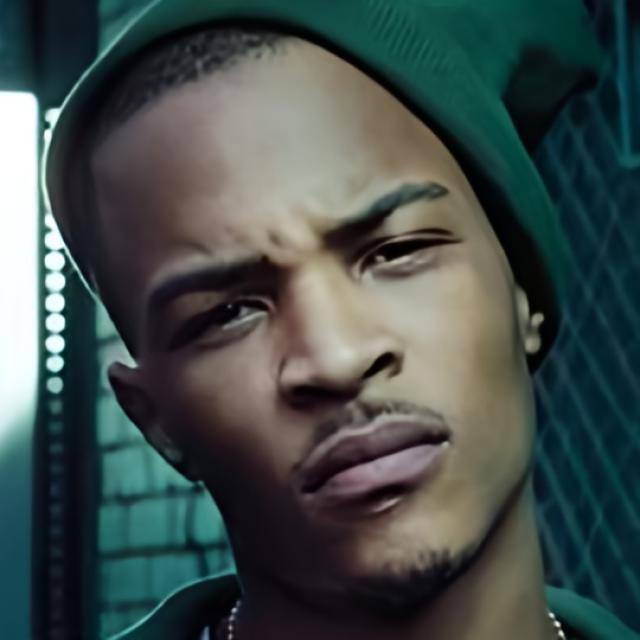anger: (123, 70, 519, 569)
